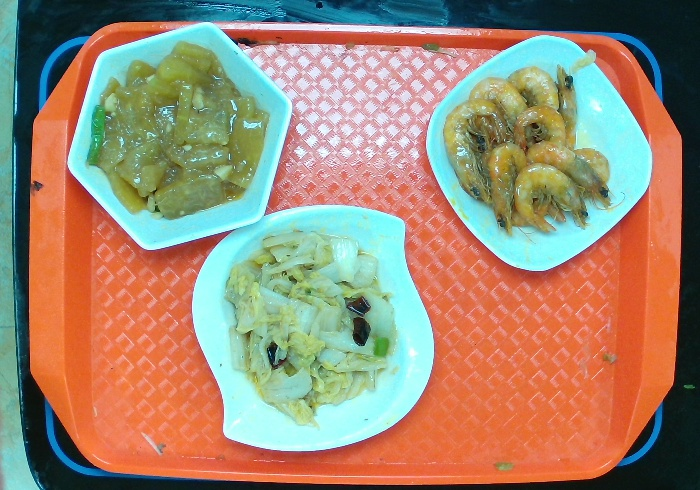RJxy-Liu_Jiao_Wan: (68, 16, 298, 252)
RJxy-Shuang_Jiao_Pan: (193, 202, 436, 456)
RJxy-Si_Fang_Wan: (420, 34, 652, 278)
